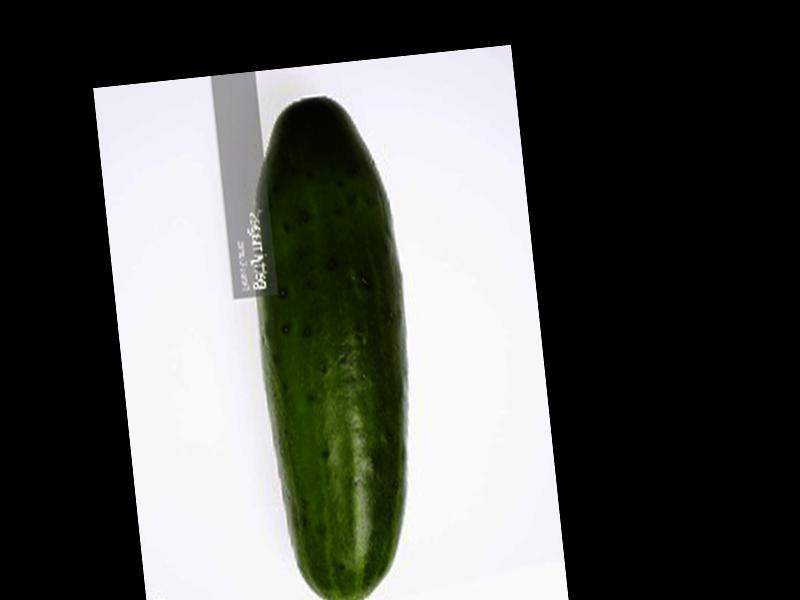Cucumber: (235, 85, 435, 600)
